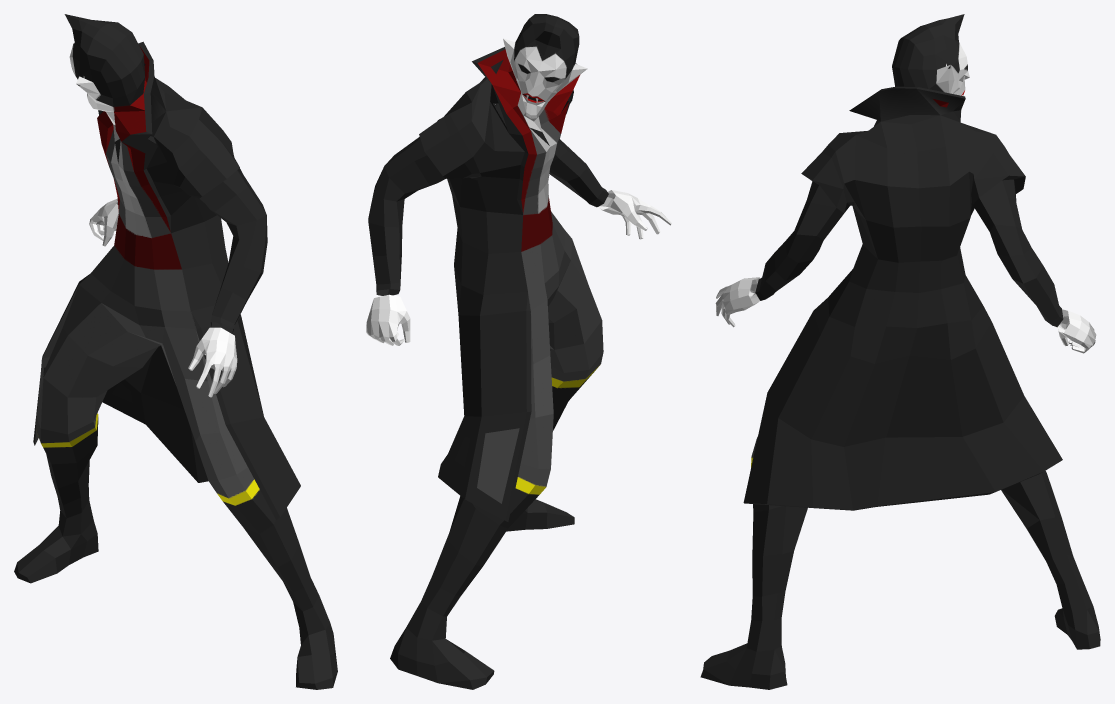
The model's file is VampireIdle(69).obj.
3 views of the same model, side by side, from view 1: azimuth 30°, elevation 25°; view 2: azimuth 150°, elevation 25°; view 3: azimuth 270°, elevation 25° (orthographic). The views are drawn at different scales.
Visible parts, largest first — view 1: Plane002; view 2: Plane002; view 3: Plane002.
Boxes of the visible parts, <box> form: Plane002: <box>14,14,337,689</box>; Plane002: <box>366,14,671,689</box>; Plane002: <box>700,14,1100,689</box>.
Bounding box in the file's own units: 96.2 × 307 × 186.
